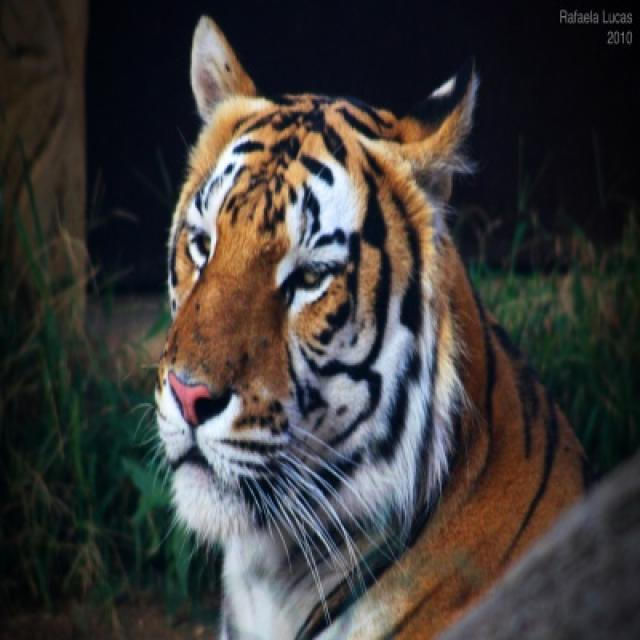Tiger: (157, 14, 587, 636)
